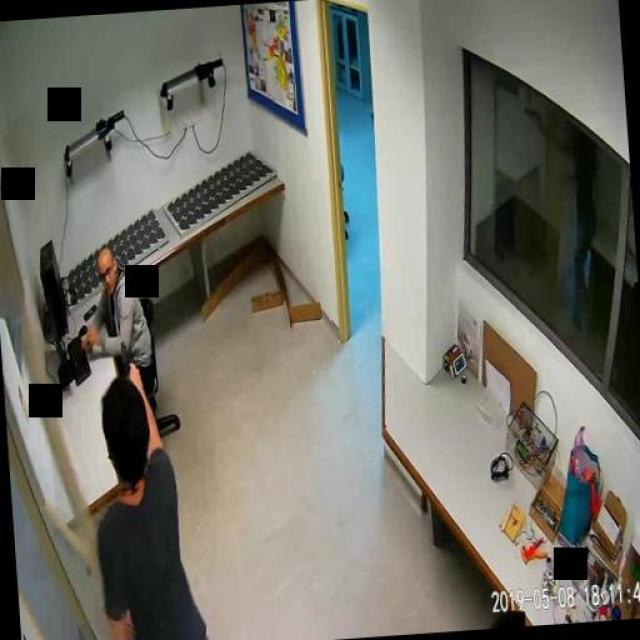gun: (118, 338, 138, 384)
